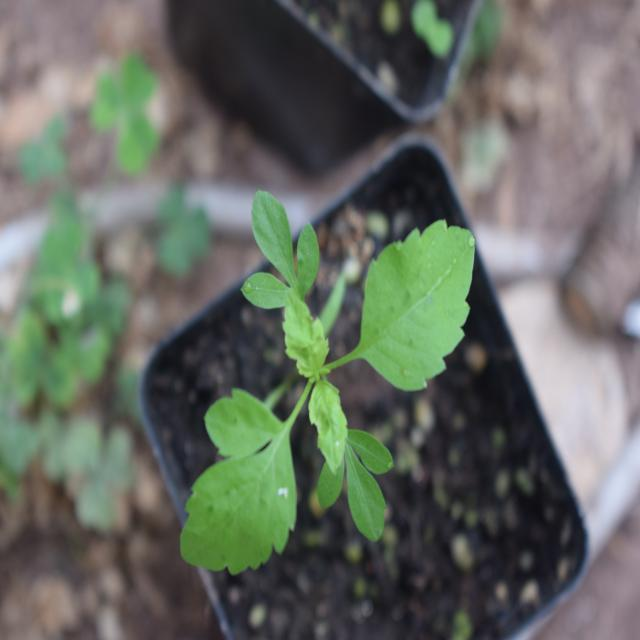Bidens pilosa: (161, 173, 463, 572)
